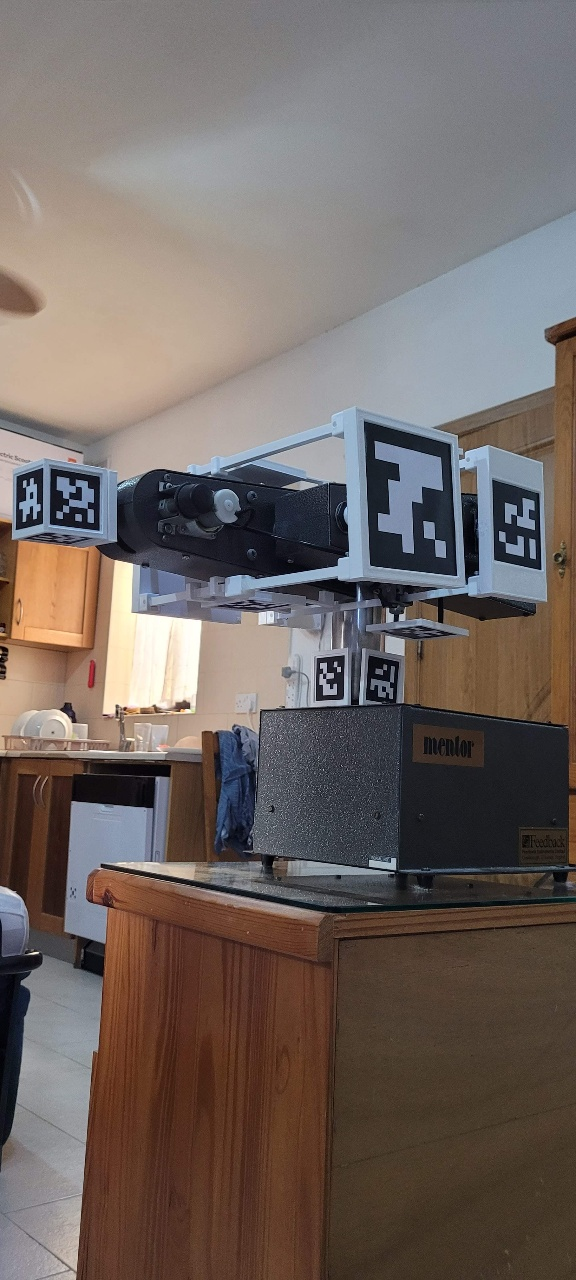Robot: (1, 253, 567, 969)
